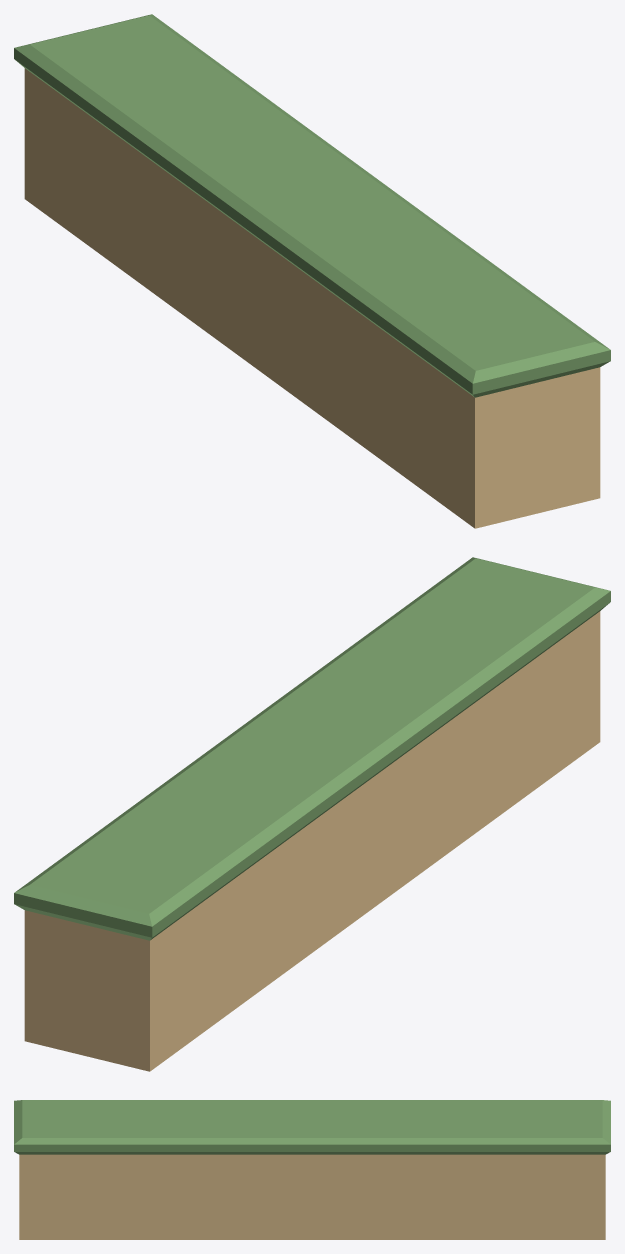
The model's file is Pedestal.fbx.
3 renders of one model, top to bottom at view 1: azimuth 30°, elevation 25°; view 2: azimuth 150°, elevation 25°; view 3: azimuth 270°, elevation 25°, orthographic. The views are drawn at different scales.
Parts seen in each view (by area): view 1: Cube.001; view 2: Cube.001; view 3: Cube.001.
Part boxes in pixels (box(x1,y1,x2,y2)): Cube.001: box(14, 14, 610, 528); Cube.001: box(14, 557, 610, 1071); Cube.001: box(14, 1100, 610, 1239).
Size of the model in its own units: 221 by 237 by 1269.
